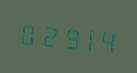four: (98, 22, 117, 57)
nine: (58, 19, 77, 53)
one: (78, 20, 97, 55)
two: (38, 17, 57, 51)
zero: (18, 15, 37, 50)
